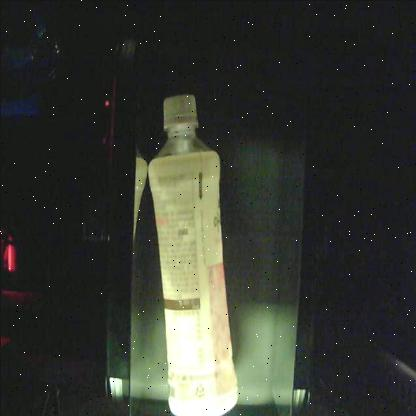Plastic Bottle: (148, 93, 236, 416)
